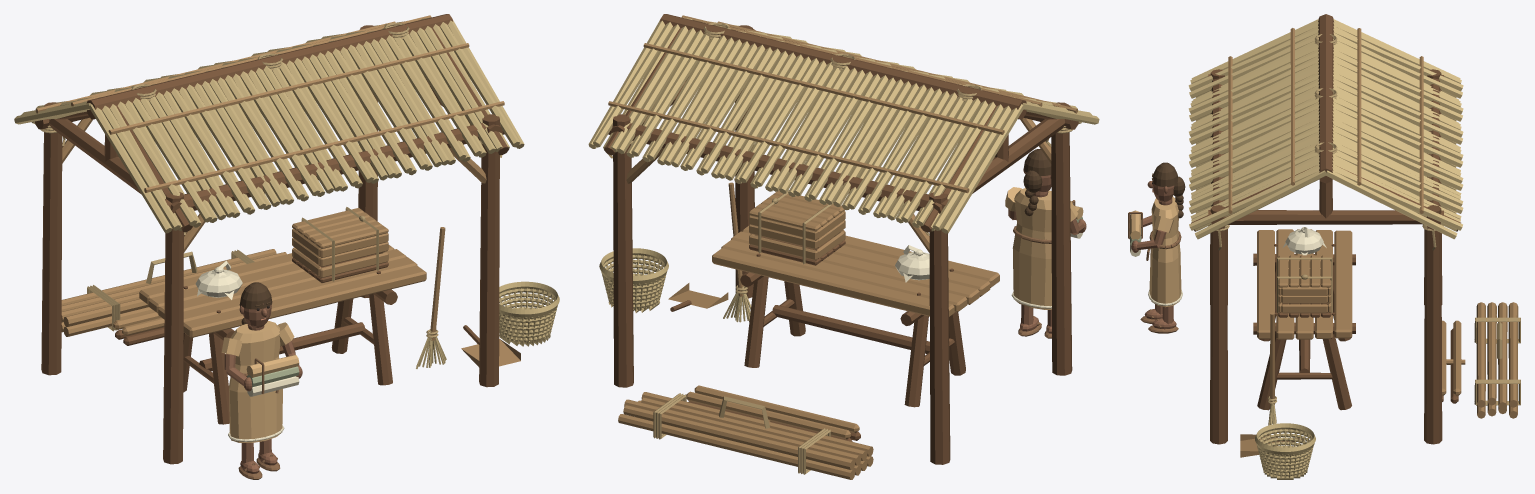
3 renders of one model, left to right at view 1: azimuth 30°, elevation 25°; view 2: azimuth 150°, elevation 25°; view 3: azimuth 270°, elevation 25°, orthographic. The views are drawn at different scales.
Parts seen in each view (by area): view 1: BA-0100 batched; view 2: BA-0100 batched; view 3: BA-0100 batched.
Boxes of the visible parts, x1,y1,x2,y2 form: BA-0100 batched: (14,14,559,479); BA-0100 batched: (588,14,1099,479); BA-0100 batched: (1128,14,1520,479).
Bounding box in the file's own units: 4.2 × 2.92 × 3.67.
